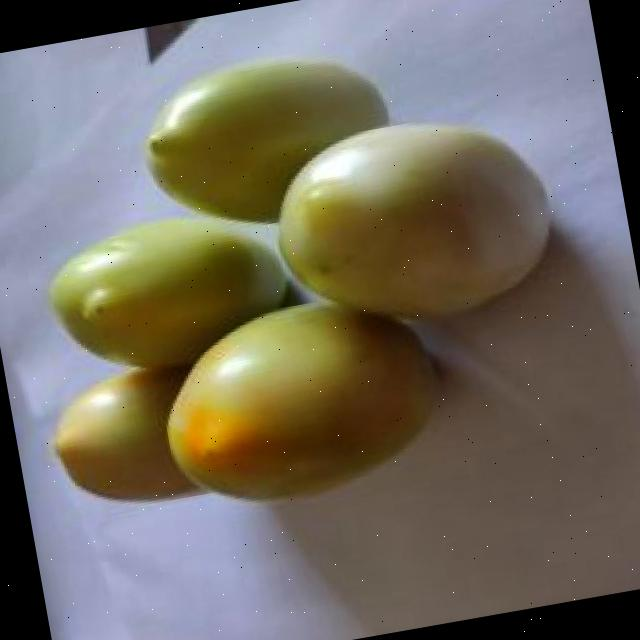tomato: (144, 288, 460, 516), (263, 96, 562, 334), (130, 44, 404, 241), (42, 209, 298, 381), (40, 344, 264, 523)
